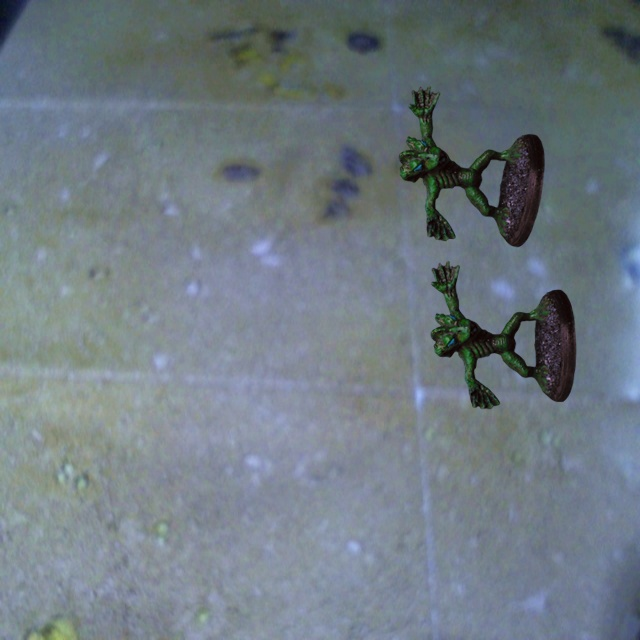pieza_juego: (399, 86, 544, 246), (430, 261, 576, 408)
